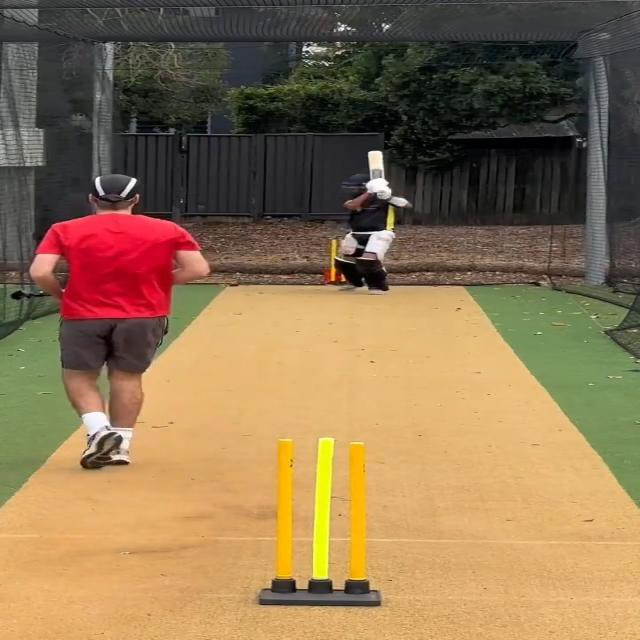stump: (262, 438, 383, 608)
